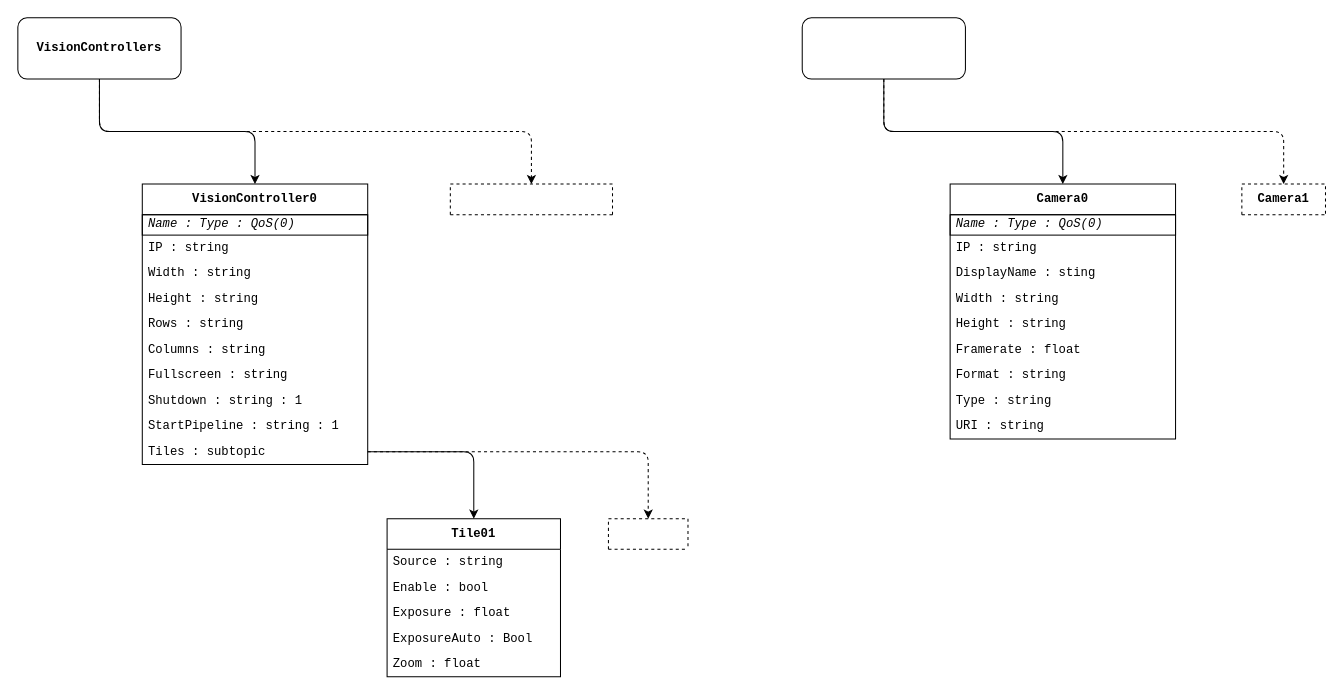
Image size: 1343x695. Some labels were removed from this diagram. Here are the shapes that lost their labels. From the top down, the centre of each, then its label:
At point 883,48: "Cameras".
At point 531,199: "VisionController1".
At point 647,533: "Tile02".
